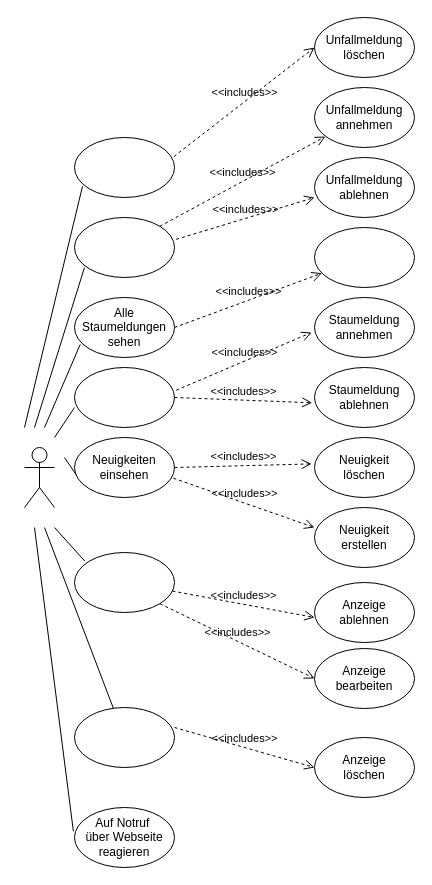
The diagram is 432 pixels wide and 885 high, and some of its shapes have lost their labels. Here are the shapes that lost their labels. From the top down, the centre of each, then its label:
At point (124, 167): "Alle Unfallmeldungen sehen".
At point (124, 247): "Neue Unfallmeldung einsehen".
At point (364, 257): "Staumeldung löschen".
At point (124, 397): "Neue Staumeldung einsehen".
At point (39, 477): "Beamter".
At point (124, 582): "neue Anzeigen einsehen".
At point (124, 737): "Alle Anzeigen sehen".
